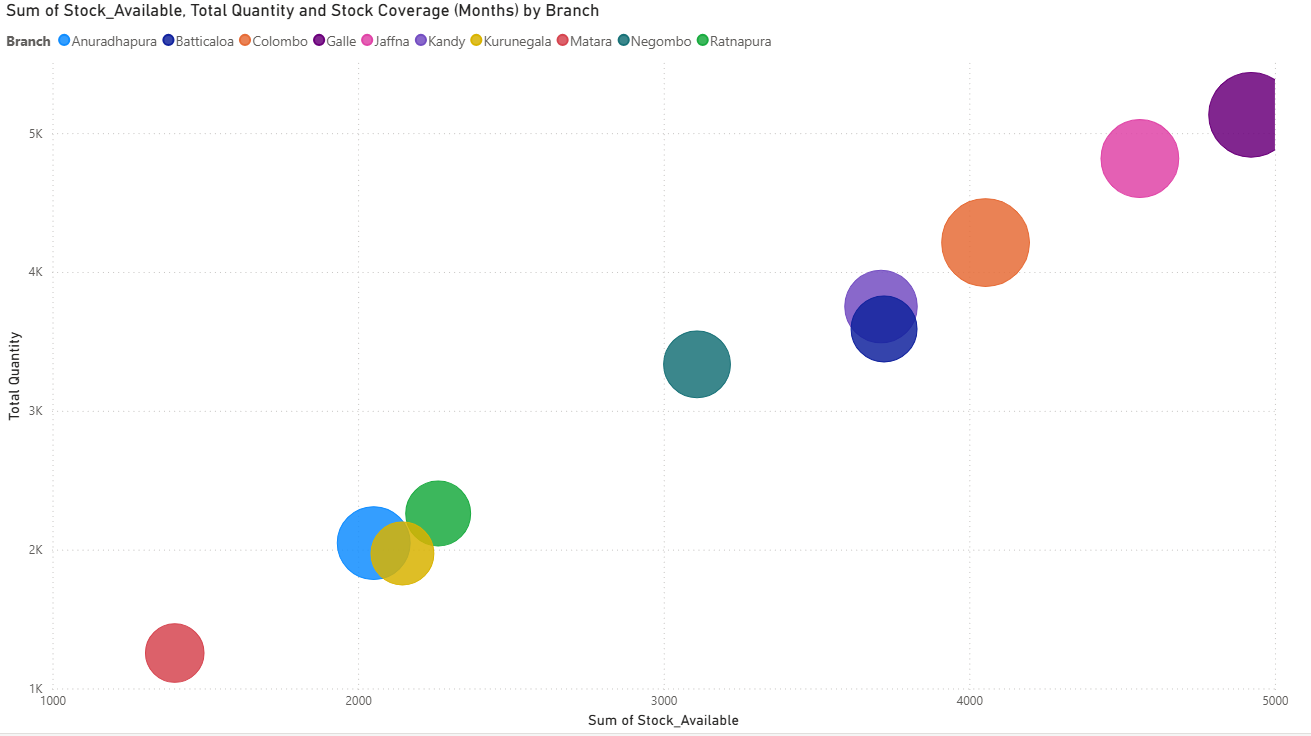

The page's visual inventory and layout, read from the dashboard file:
{"tool":"powerbi","page":{"name":"Inventory Analysis","canvas":[1280,720],"ordinal":6},"visuals":[{"type":"scatterChart","fields":{"X":["Sum(techzone_sales_extended_100.Stock_Available)"],"Y":["techzone_sales_extended_100.Total Quantity"],"Series":["techzone_sales_extended_100.Branch"],"Size":["techzone_sales_extended_100.Stock Coverage (Months)"]},"box":[10.3,0,1269.6,720],"z":0}]}

Visuals, with their boxes in screenshot pixels (x1, y1, x2, y2), scaled from the page's 1280x720 canvas onto the 1311x736 screenshot:
scatterChart - Sum(techzone_sales_extended_100.Stock_Available) x techzone_sales_extended_100.Total Quantity: {"x1": 11, "y1": 0, "x2": 1310, "y2": 735}
